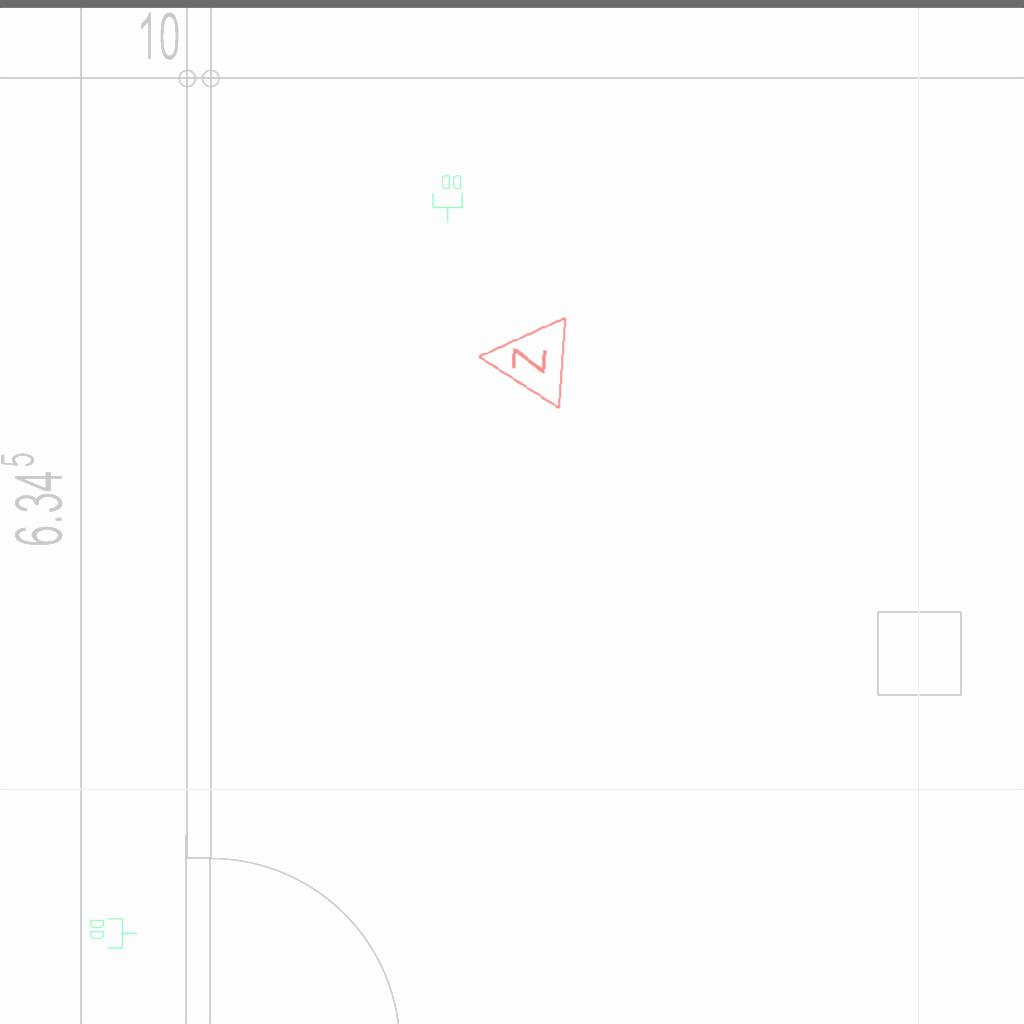Datenanschluss_zweifach: (431, 173, 465, 224), (88, 916, 139, 950)
Zimmersignalleuchte: (467, 308, 575, 414)
